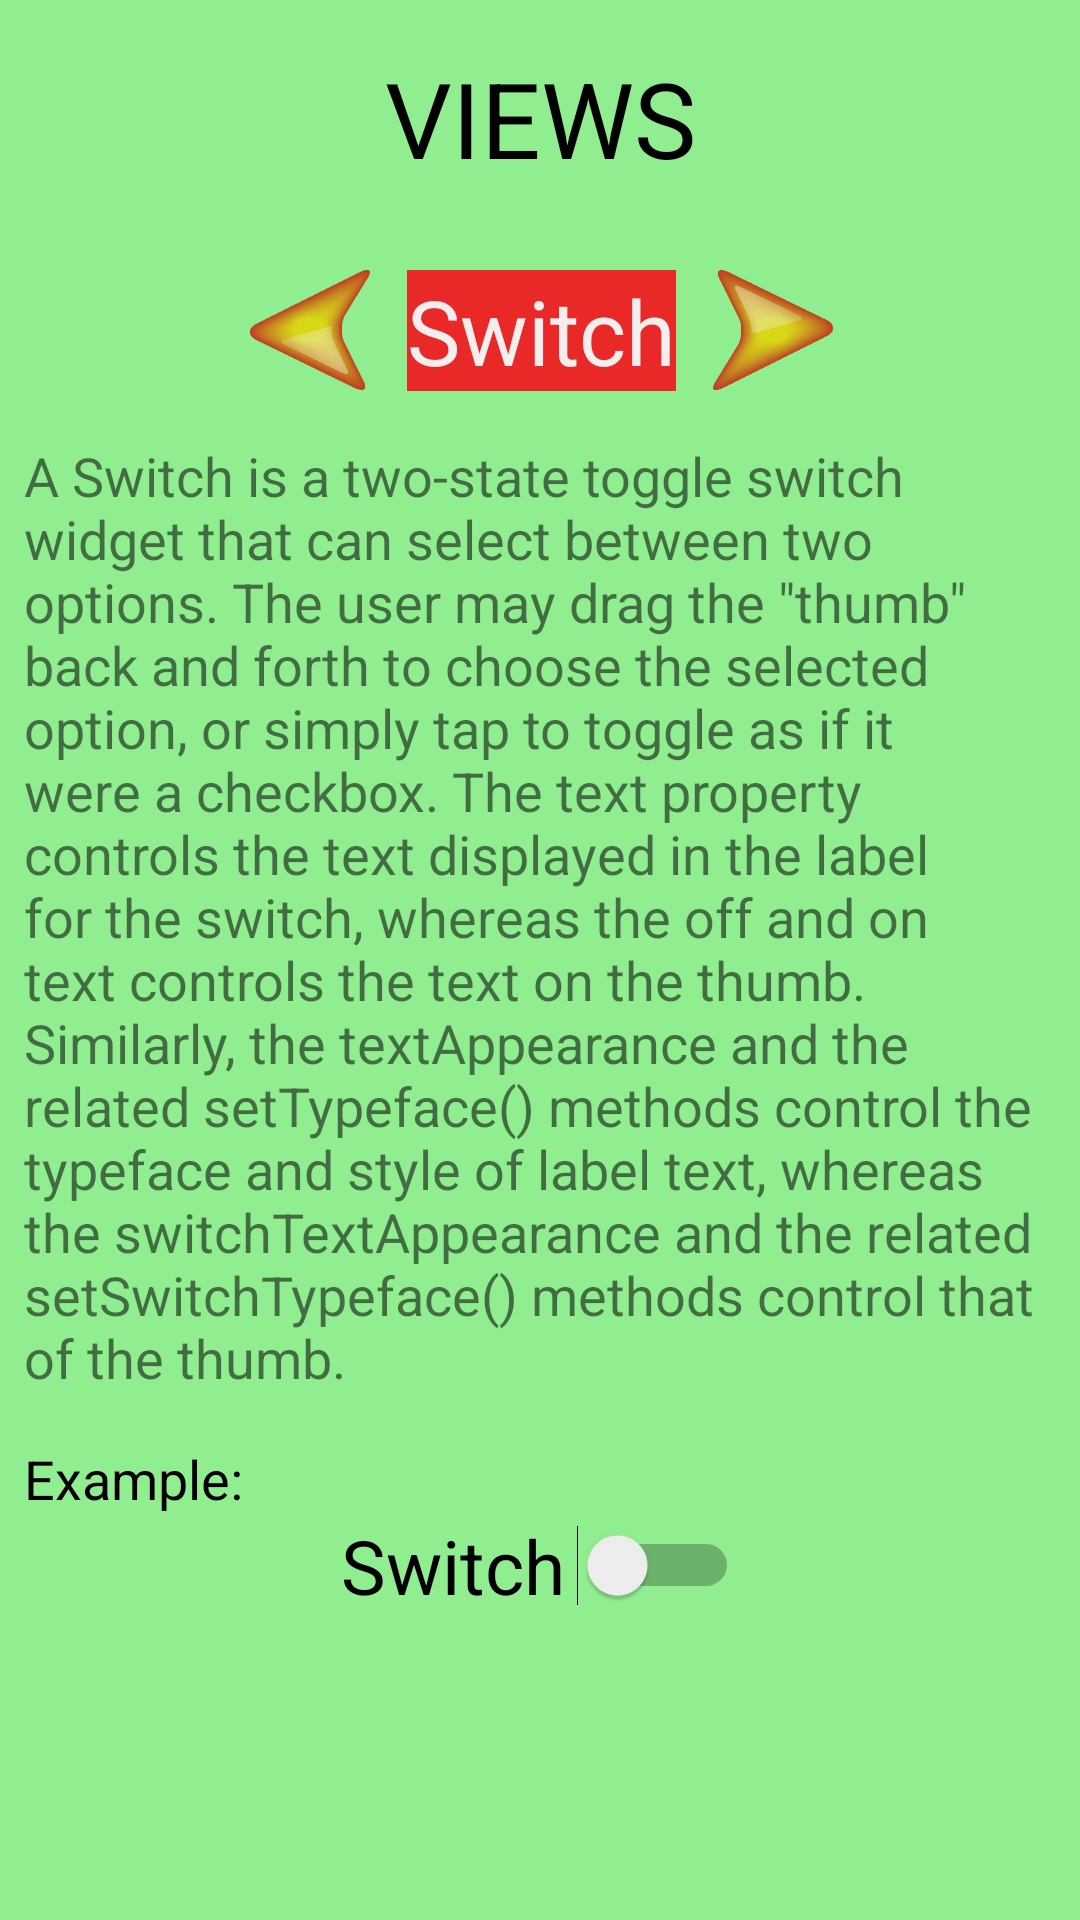

Screen size 1080w x 1920h. Icon name, then its box in pixels as (x1, y1, x2, y2):
next: (713, 270, 833, 390)
previous: (250, 270, 370, 390)
